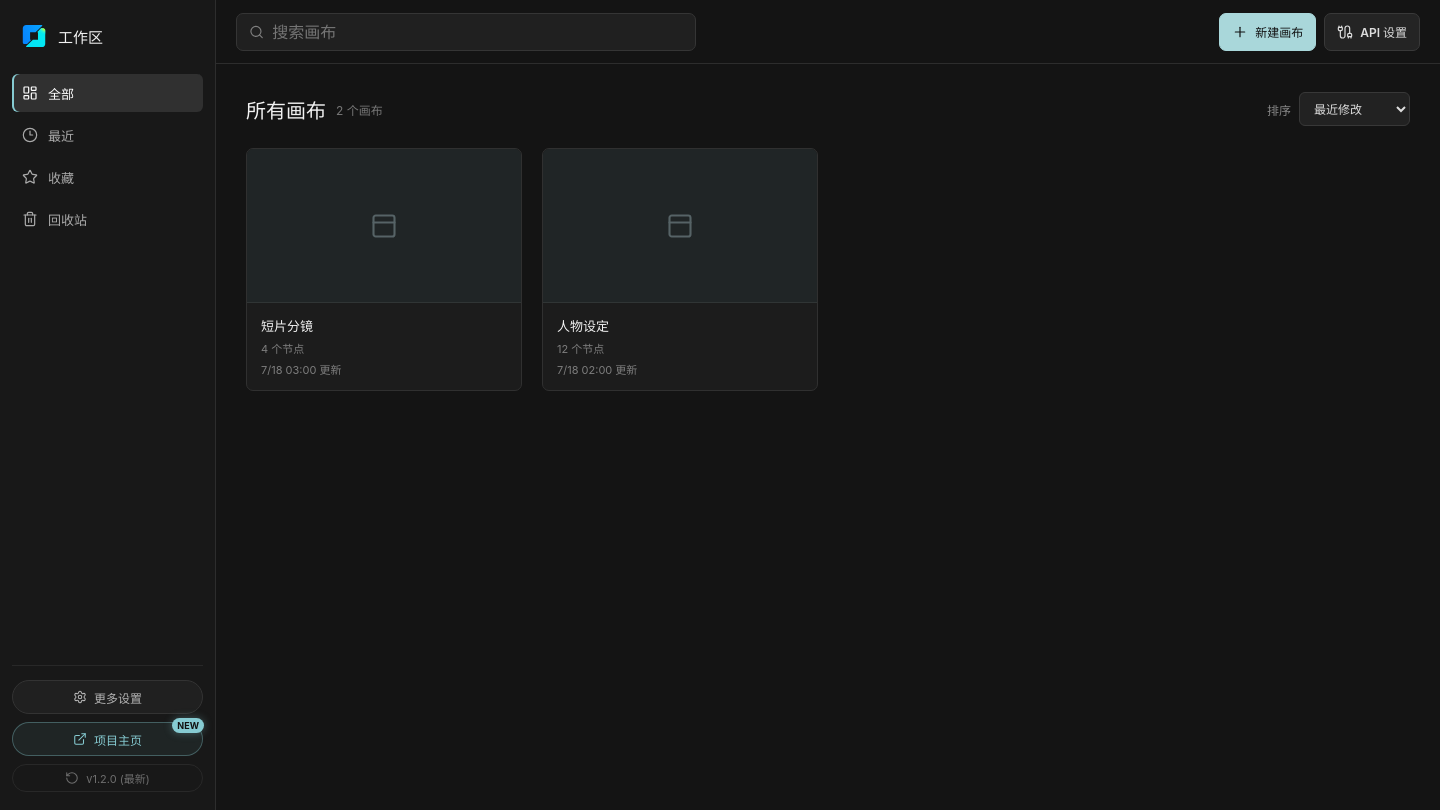
workspace home view › searches canvases without exposing the legacy project grouping
The image size is (1440, 810).
Type "片" into the search field named "搜索工作区" at (478, 32), box left=272, top=14, right=683, bottom=50
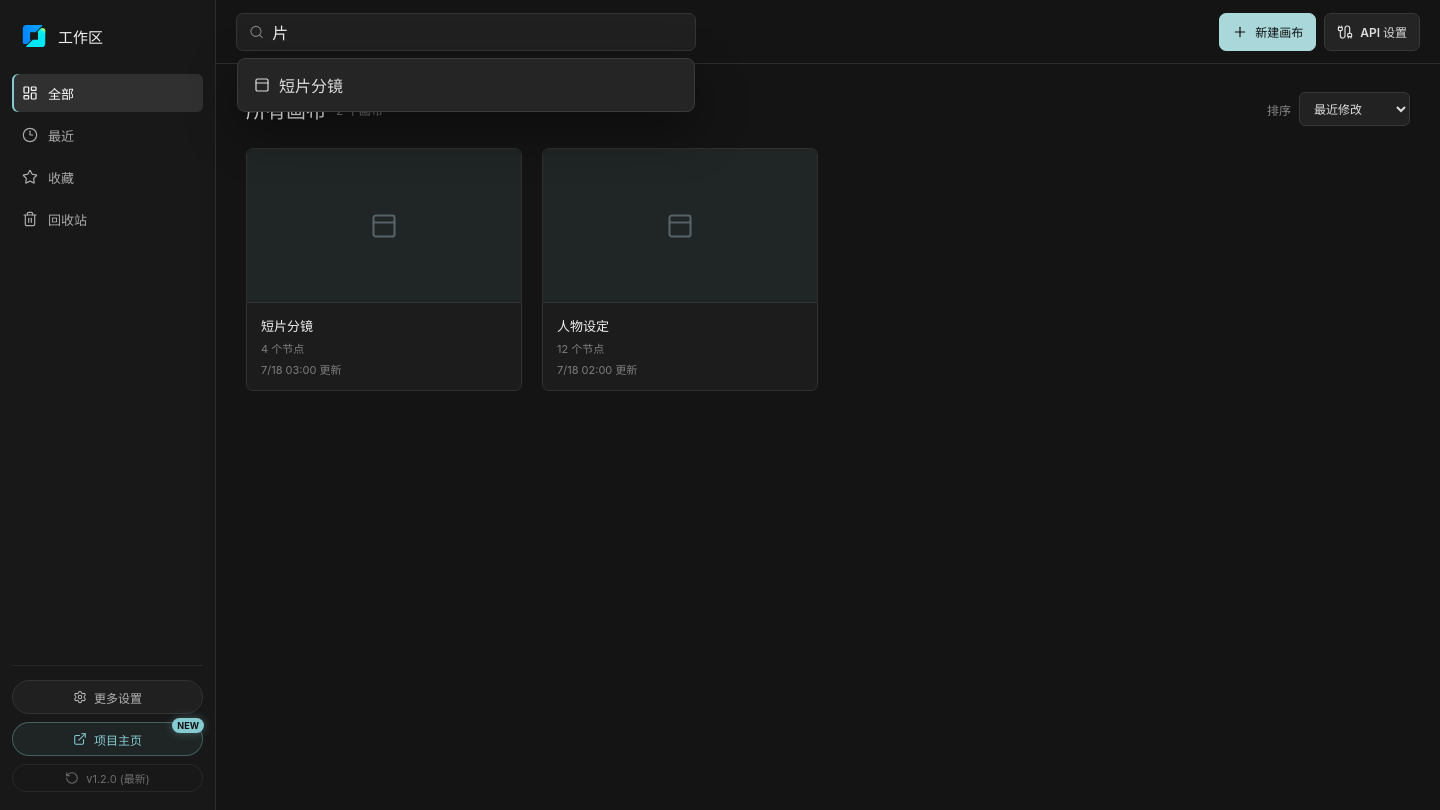
Check: the text "人物设定" is shown, box left=557, top=318, right=609, bottom=334
Check: the list named "搜索结果" is shown, box left=237, top=58, right=695, bottom=112
Check: the option "短片分镜" is shown, box left=246, top=66, right=686, bottom=102
